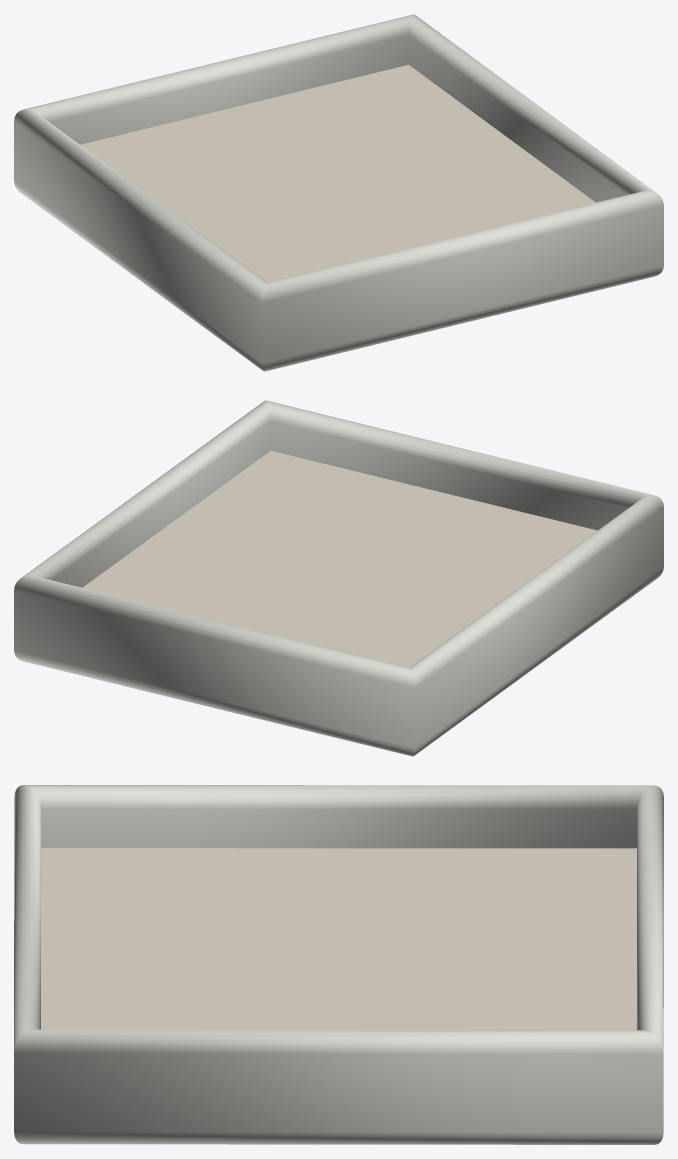
3 views of the same model, one above another, from view 1: azimuth 30°, elevation 25°; view 2: azimuth 150°, elevation 25°; view 3: azimuth 270°, elevation 25° (orthographic). The views are drawn at different scales.
Parts seen in each view (by area): view 1: wall_0, Floor; view 2: wall_0, Floor; view 3: wall_0, Floor.
Boxes of the visible parts, x1=… form: wall_0: x1=14, y1=14, x2=663, y2=371; Floor: x1=80, y1=64, x2=595, y2=282; wall_0: x1=14, y1=400, x2=663, y2=756; Floor: x1=82, y1=450, x2=597, y2=667; wall_0: x1=14, y1=785, x2=663, y2=1144; Floor: x1=41, y1=848, x2=636, y2=1030.
Bounding box in the file's own units: 42.13 × 8.64 × 45.09.
